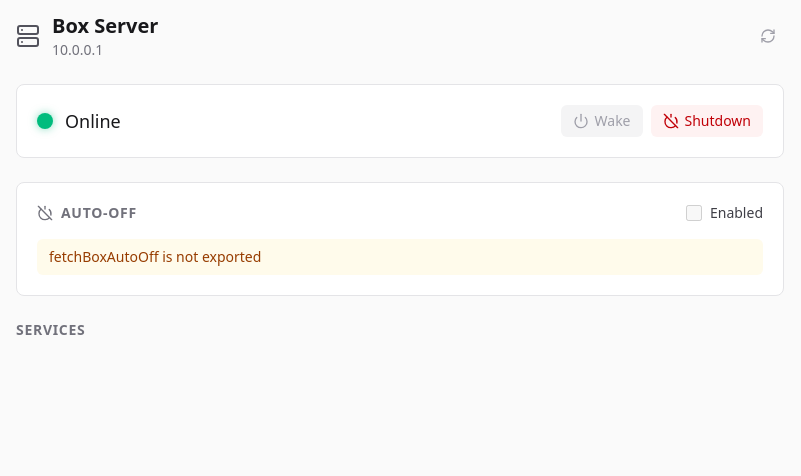
Test: BoxPage shutdown errors › shows the server error message when shutdown fails
Expected: the heading "Box Server" is shown, [52,12,158,40]
Click the button "Shutdown". click: [707, 121]
box: [650,105,763,137]
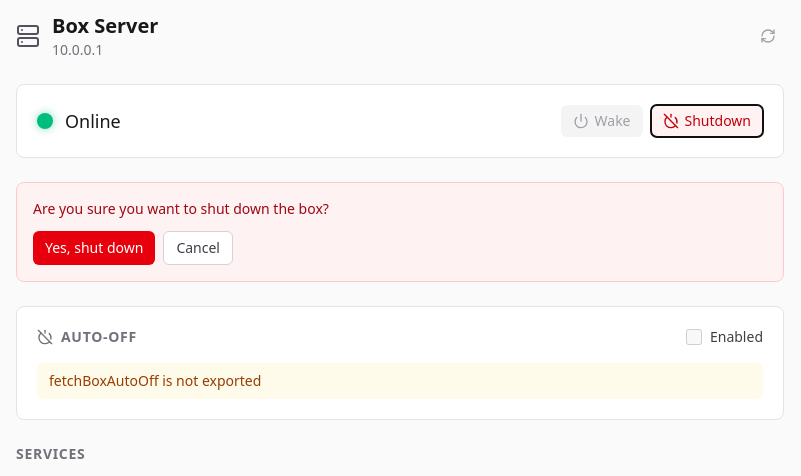
Click the button "Yes, shut down". click: [94, 248]
box: [33,231,155,265]
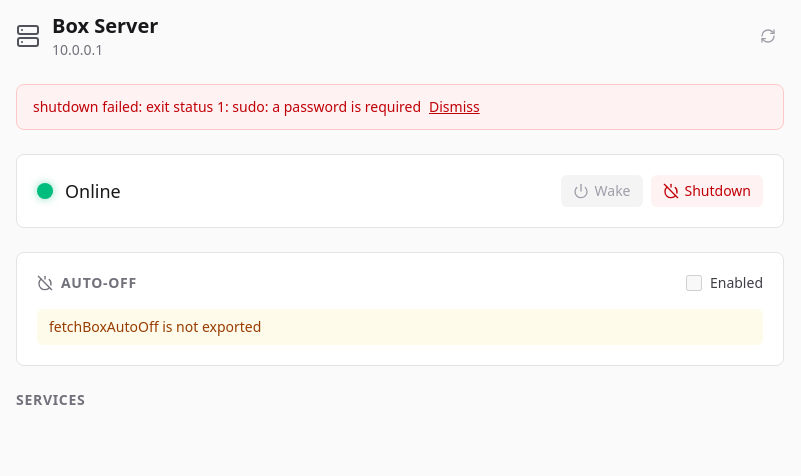
Result: the message "shutdown failed: exit status 1: sudo: a password is required Dismiss" is shown at [16,84,784,130]
